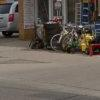Bicycle: (50, 22, 89, 57)
